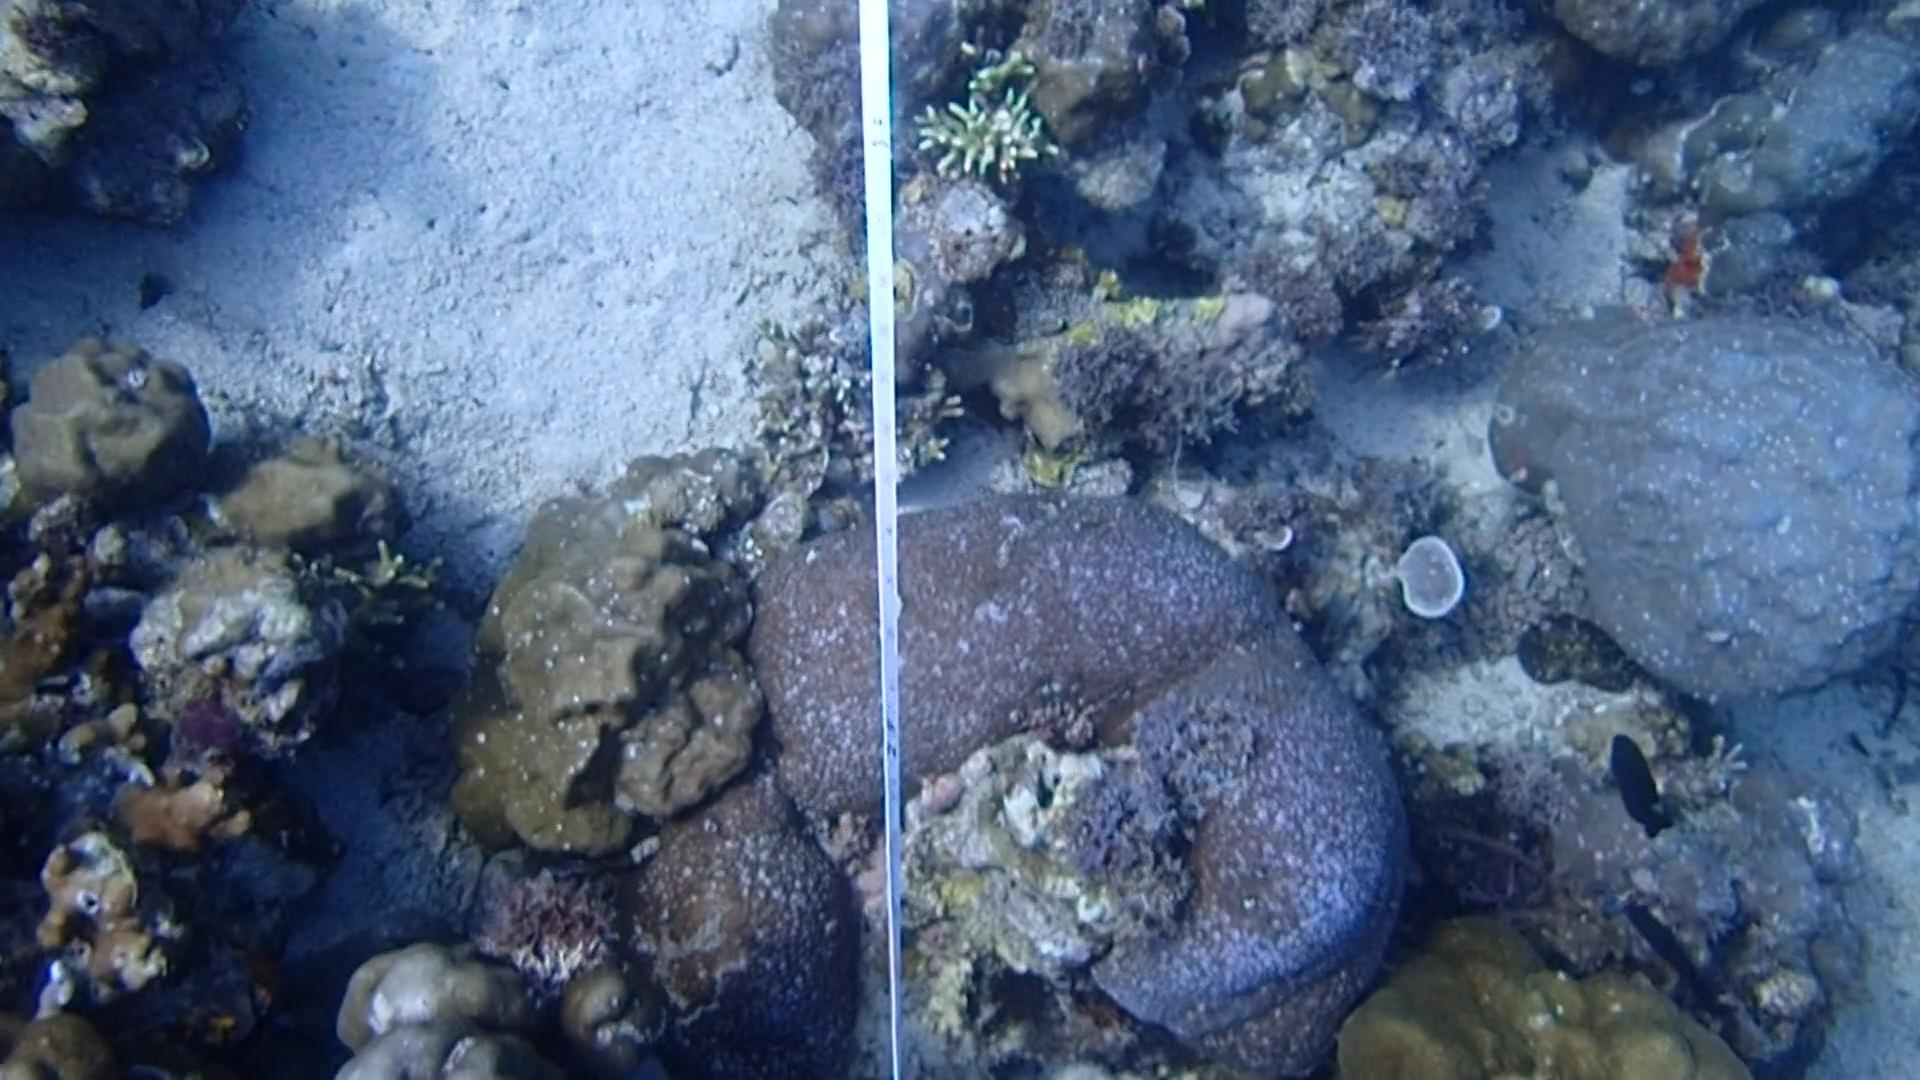Dark Fish: (1596, 728, 1667, 837)
